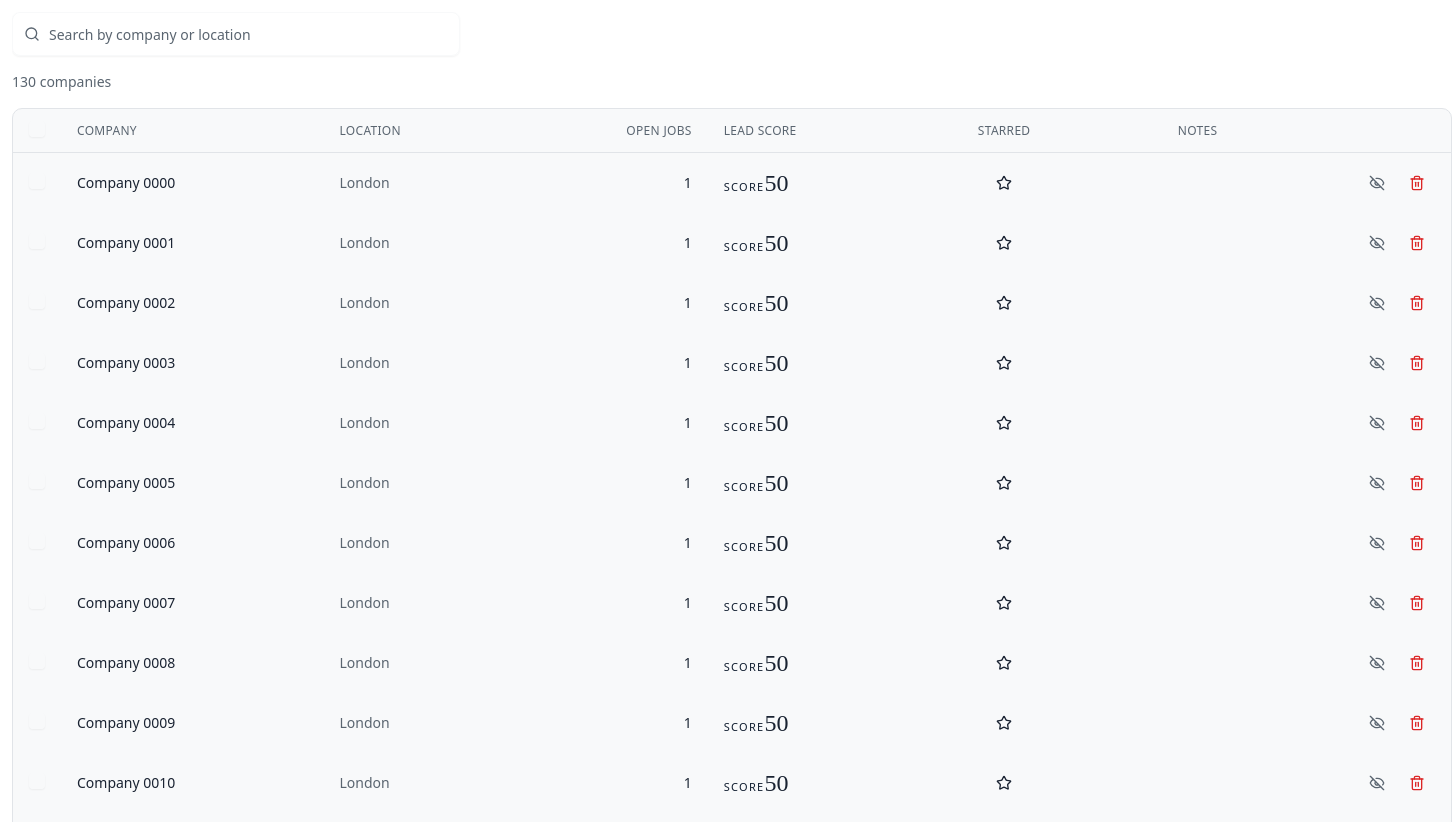
Test: CompaniesTable › searches every company, including ones not yet rendered
The width and height of the screenshot is (1452, 822).
Type "edinburgh" into the search field named "Search companies" at [236, 34], box [12,12,460,56]
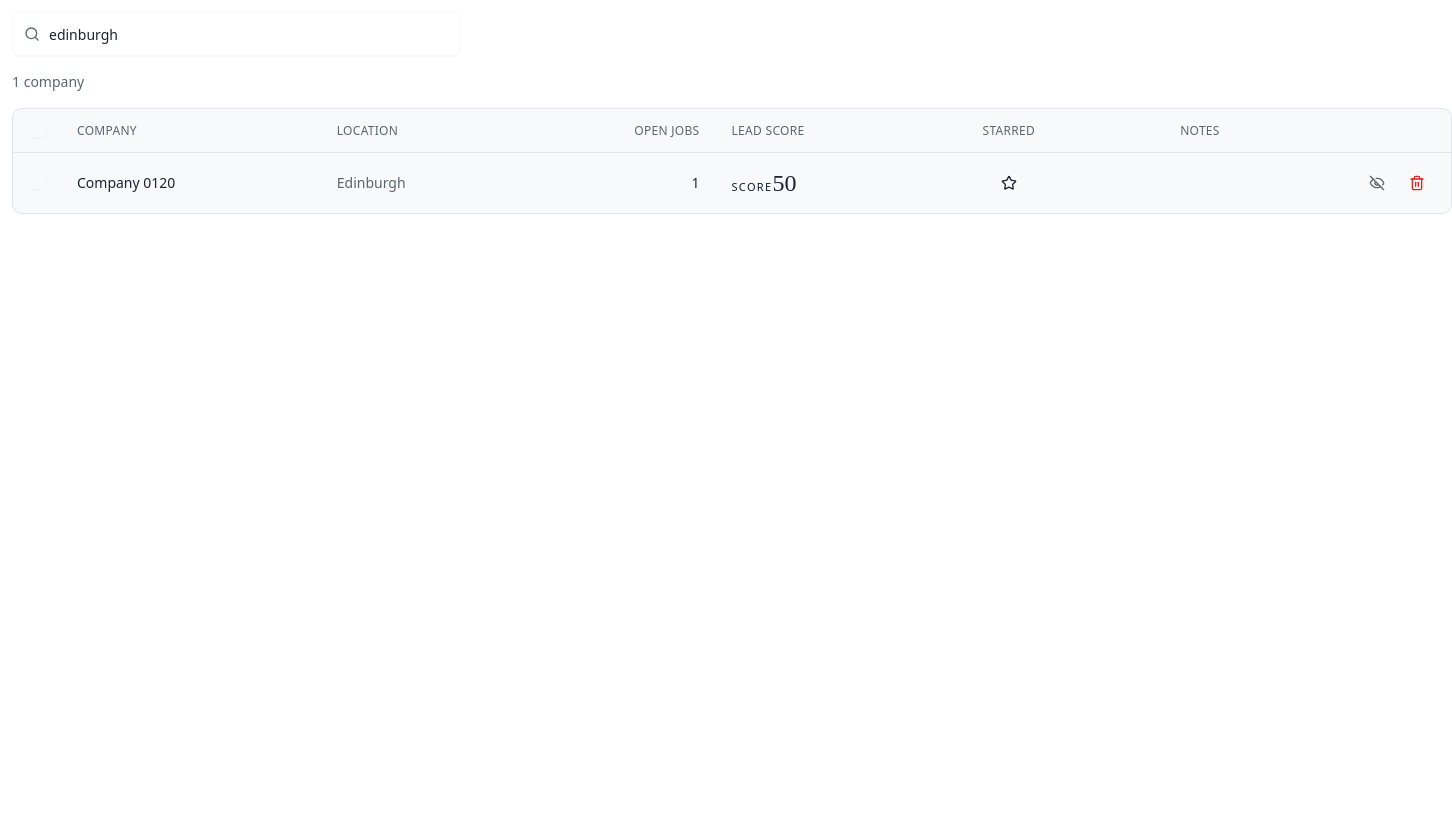
Expected: the link "Company 0120" is shown, [77,173,175,192]
Expected: the text "1 company" is shown, [12,72,84,92]
